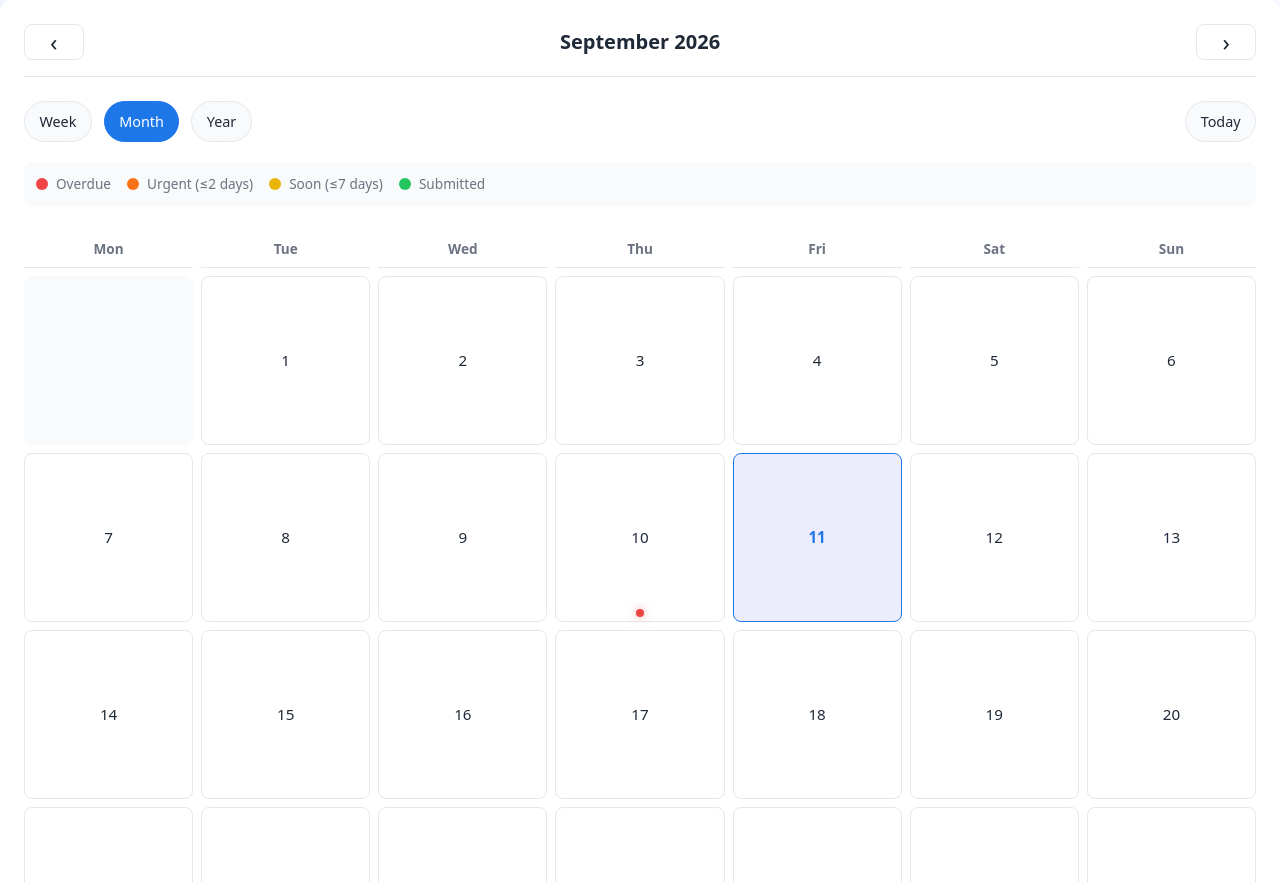
Test: CalendarView Component › renders week view and shows assignment pill
Click the button "Week" at (58, 122), box top-left (24, 101), bottom-right (92, 142)
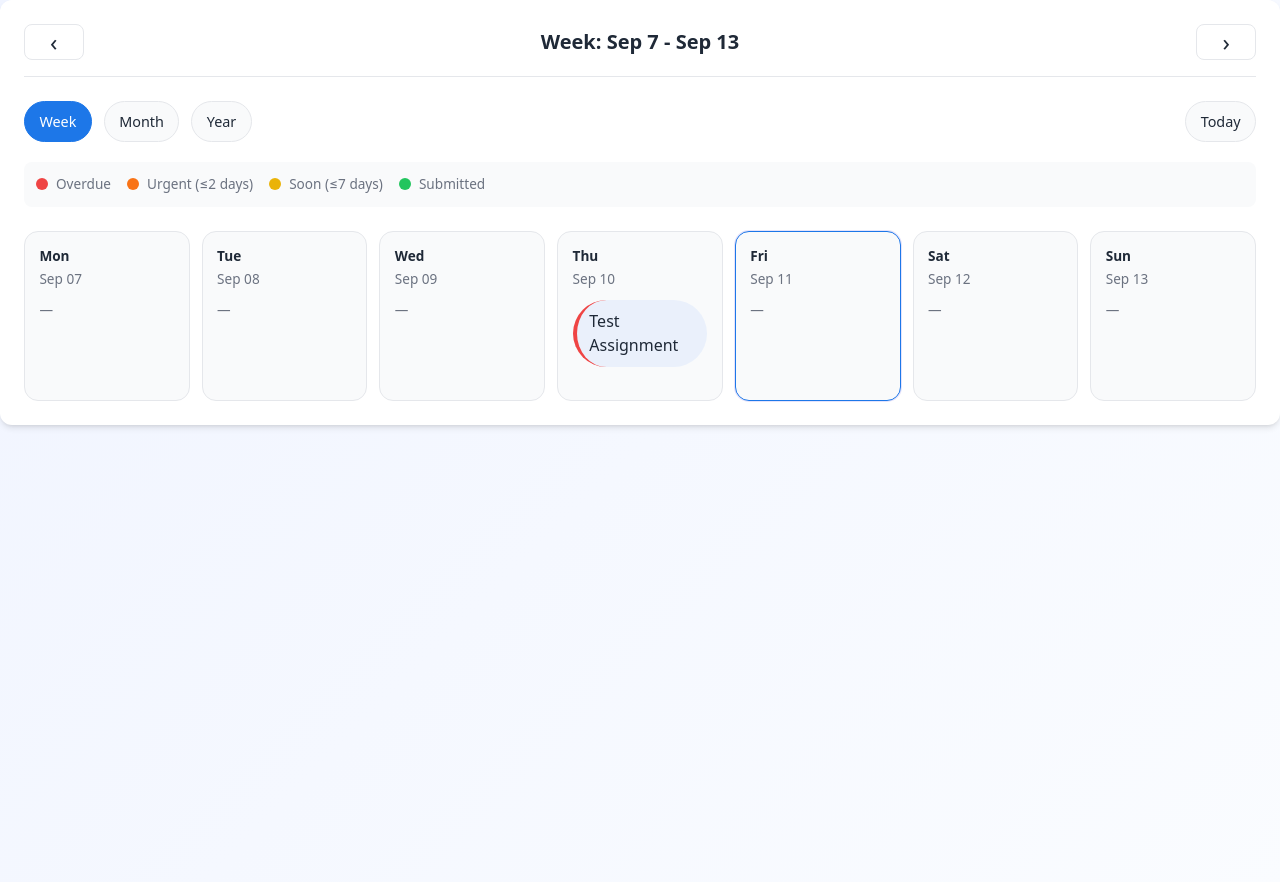
Expected: the button "Test Assignment" is shown, top-left (572, 300), bottom-right (707, 367)
